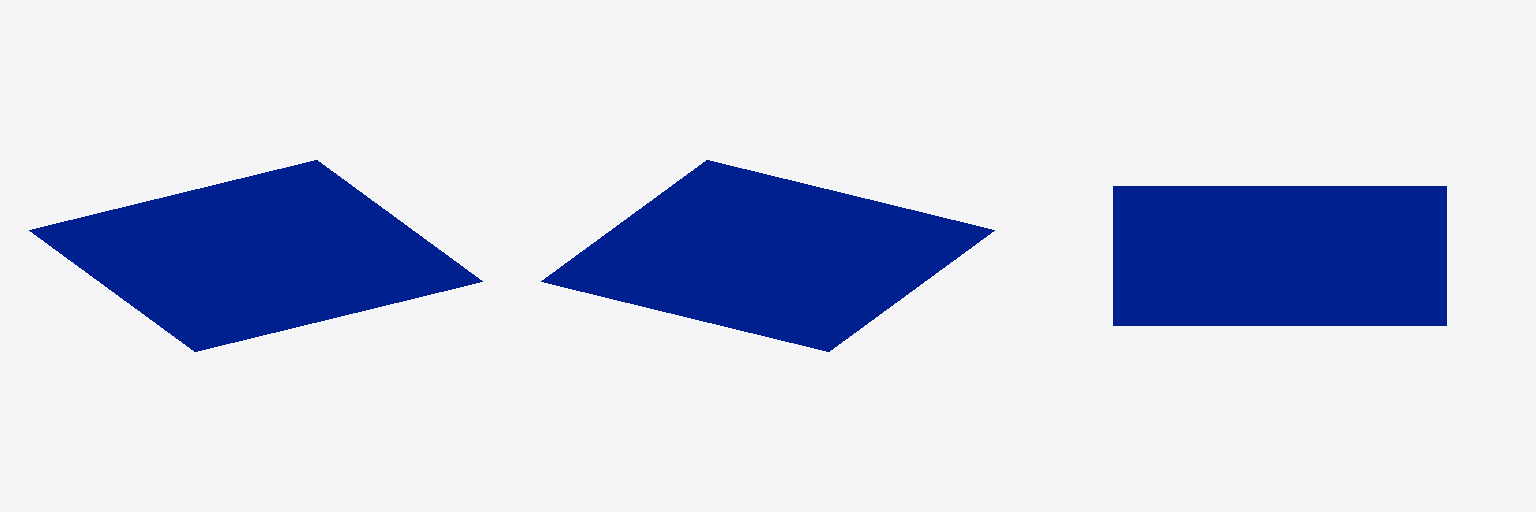
File: water.obj
3 renders of one model, left to right at view 1: azimuth 30°, elevation 25°; view 2: azimuth 150°, elevation 25°; view 3: azimuth 270°, elevation 25°, orthographic.
Visible parts, largest first — view 1: Plane; view 2: Plane; view 3: Plane.
Boxes of the visible parts, x1=… form: Plane: x1=29, y1=160, x2=482, y2=351; Plane: x1=541, y1=160, x2=994, y2=351; Plane: x1=1113, y1=186, x2=1446, y2=325.
Size of the model in its own units: 15.64 by 0 by 15.64.